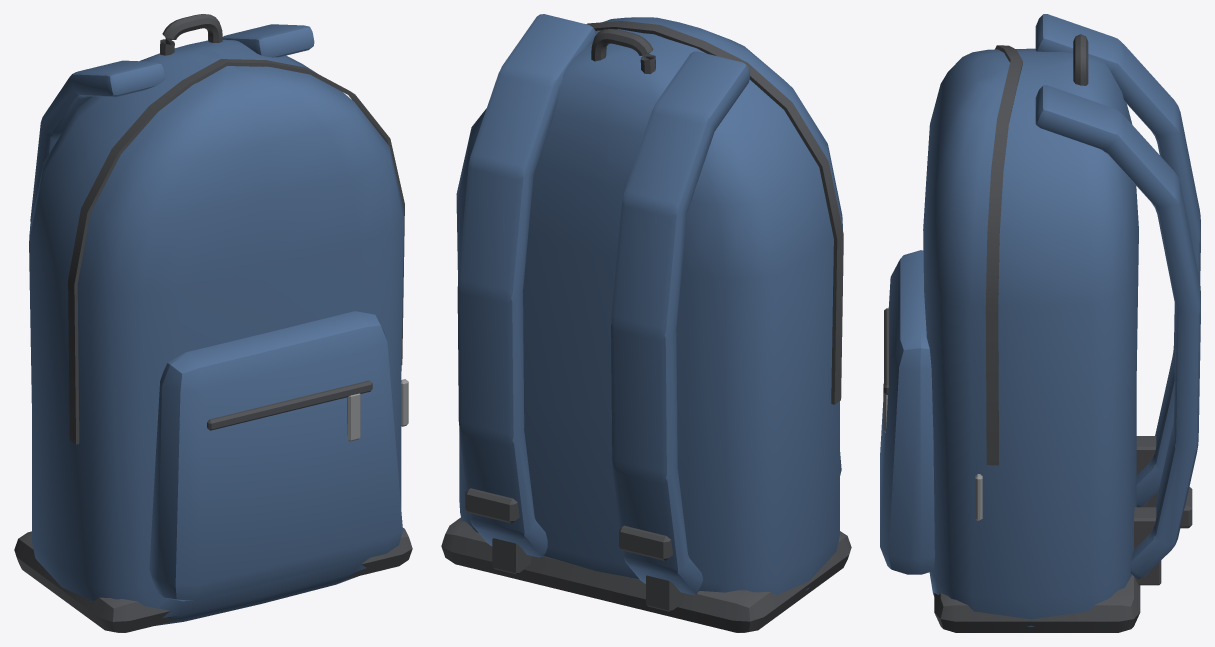
Rendered from Backpack.fbx.
3 views of the same model, side by side, from view 1: azimuth 30°, elevation 25°; view 2: azimuth 150°, elevation 25°; view 3: azimuth 270°, elevation 25° (orthographic). The views are drawn at different scales.
Visible parts, largest first — view 1: Backpack_Mesh; view 2: Backpack_Mesh; view 3: Backpack_Mesh.
Boxes of the visible parts, x1,y1,x2,y2 form: Backpack_Mesh: (14, 14, 412, 632); Backpack_Mesh: (441, 14, 851, 632); Backpack_Mesh: (880, 14, 1200, 632).
Size of the model in its own units: 0.302 by 0.468 by 0.2587.
